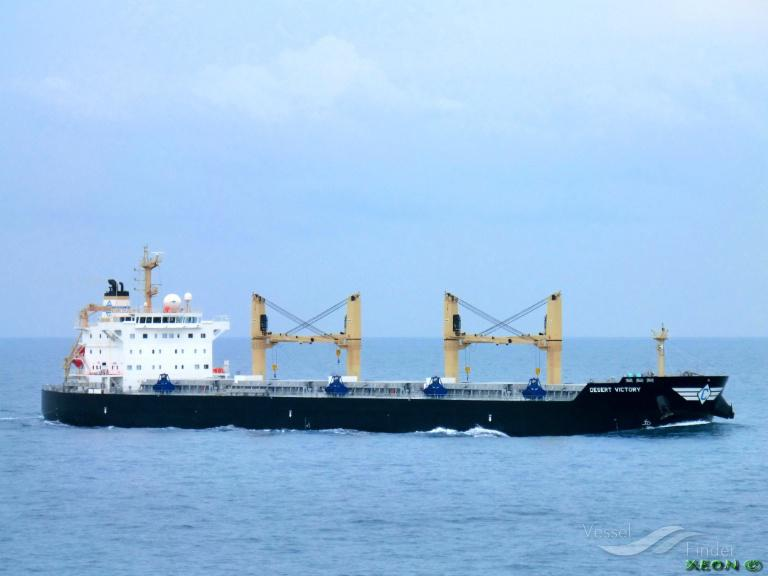OCR: (585, 383, 642, 403)
